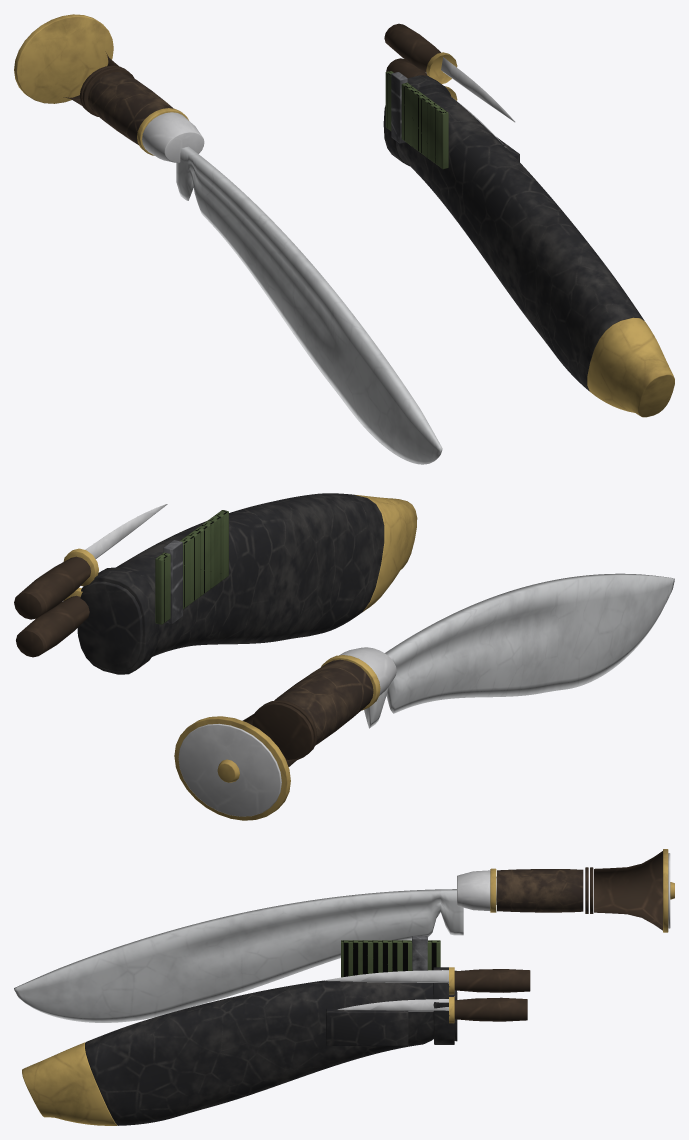
File: weapon_kukri.glb
3 renders of one model, top to bottom at view 1: azimuth 30°, elevation 25°; view 2: azimuth 150°, elevation 25°; view 3: azimuth 270°, elevation 25°, orthographic. The views are drawn at different scales.
Visible parts, largest first — view 1: Kukri_Sheath, Kukri_Blade, Kukri_Handle, Kukri_Karda; view 2: Kukri_Sheath, Kukri_Blade, Kukri_Handle, Kukri_Karda, Kukri_Chakmak; view 3: Kukri_Sheath, Kukri_Blade, Kukri_Handle, Kukri_Karda, Kukri_Chakmak.
Boxes of the visible parts, x1=… form: Kukri_Sheath: x1=383, y1=71, x2=674, y2=417; Kukri_Blade: x1=176, y1=146, x2=442, y2=464; Kukri_Handle: x1=14, y1=14, x2=204, y2=162; Kukri_Karda: x1=384, y1=23, x2=515, y2=122; Kukri_Sheath: x1=77, y1=493, x2=417, y2=674; Kukri_Blade: x1=364, y1=573, x2=674, y2=728; Kukri_Handle: x1=174, y1=647, x2=396, y2=820; Kukri_Karda: x1=14, y1=504, x2=167, y2=619; Kukri_Chakmak: x1=16, y1=587, x2=89, y2=657; Kukri_Sheath: x1=22, y1=936, x2=457, y2=1125; Kukri_Blade: x1=14, y1=876, x2=496, y2=1022; Kukri_Handle: x1=457, y1=849, x2=674, y2=932; Kukri_Karda: x1=324, y1=967, x2=530, y2=994; Kukri_Chakmak: x1=337, y1=996, x2=527, y2=1023.
Size of the model in its own units: 0.2377 by 0.1435 by 0.4976.
Materials: 16 (16 with a texture image).
